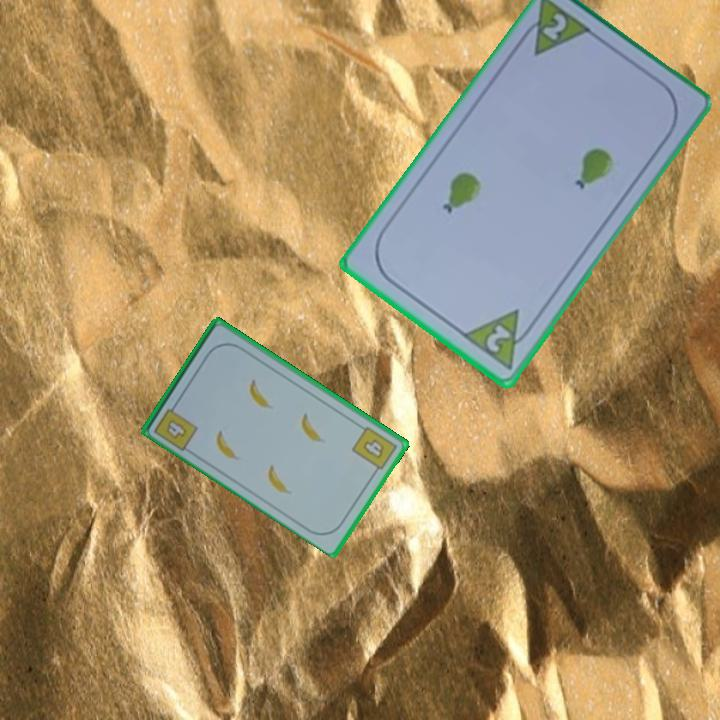2p: (459, 306, 539, 374), (538, 10, 570, 44)
4b: (348, 422, 400, 477), (150, 398, 201, 453)
